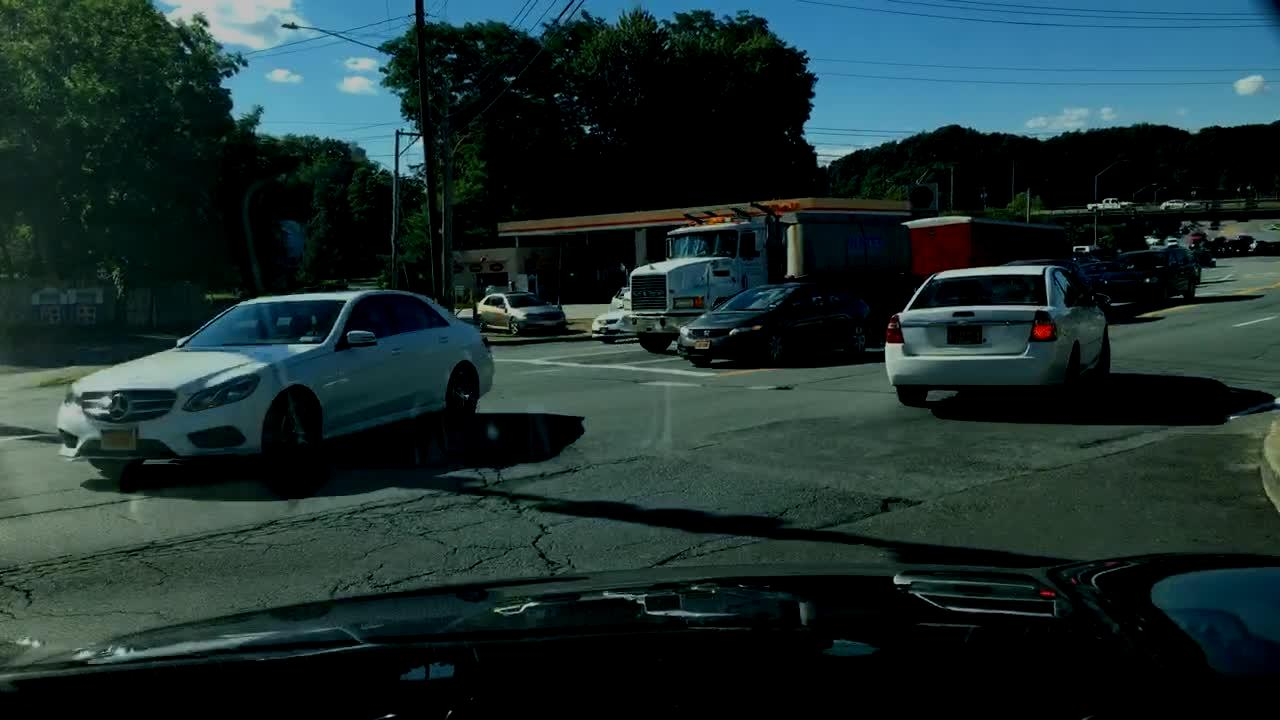Mercedes: (101, 389, 140, 424)
